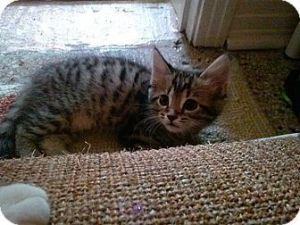bengal: (148, 44, 233, 139)
